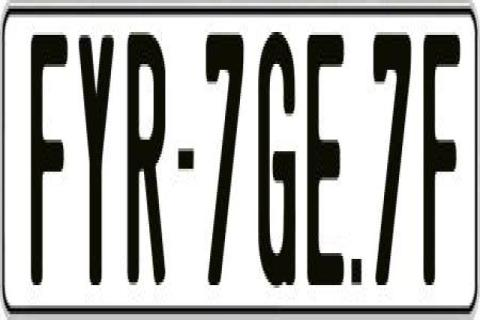0: (372, 27, 414, 286), (202, 35, 243, 291)
E: (305, 35, 345, 297)
F: (420, 26, 460, 276), (31, 32, 68, 294)
G: (258, 29, 302, 291)
R: (128, 26, 168, 294)
Y: (78, 35, 119, 299)
